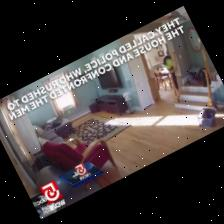person: (162, 51, 173, 70)
